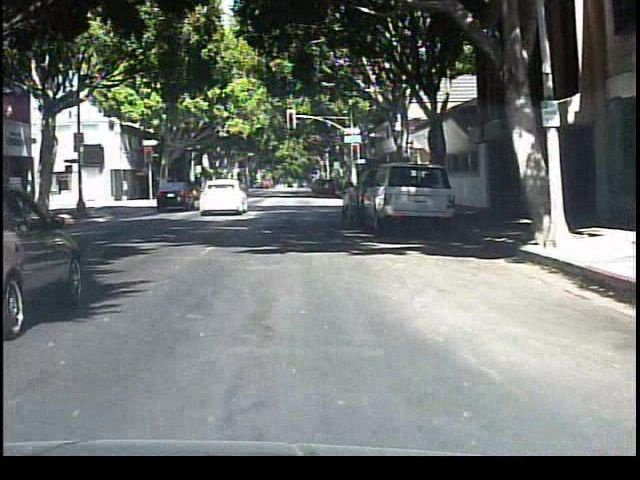person: (194, 170, 218, 214)
